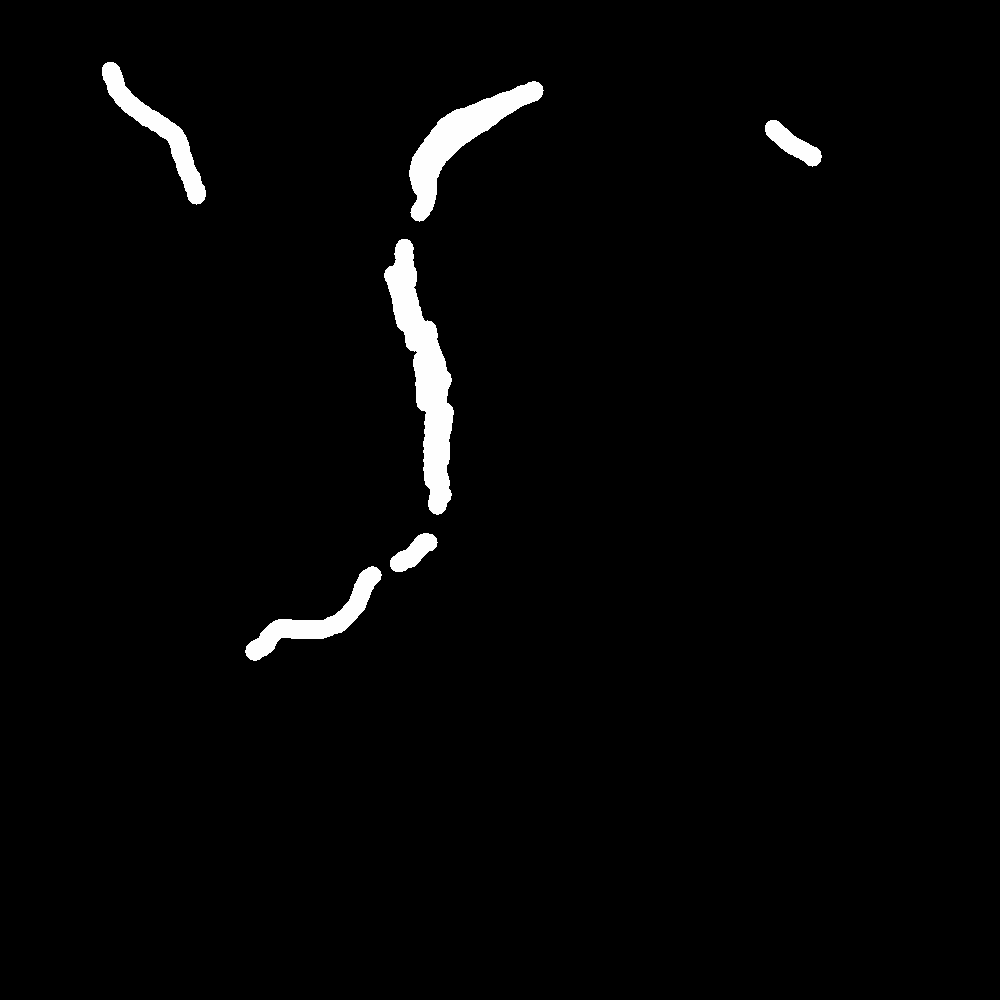illegal: (391, 83, 543, 511), (97, 39, 205, 255), (267, 531, 437, 648), (759, 107, 827, 172)
